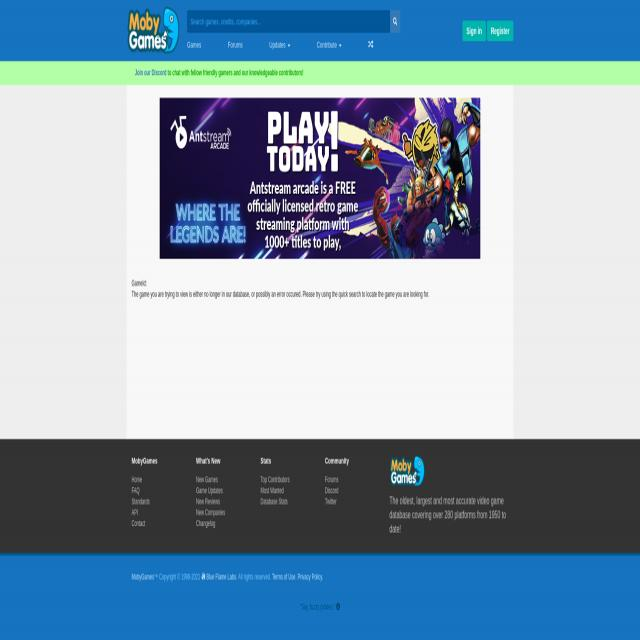button: (160, 98, 480, 260), (126, 6, 180, 55), (390, 456, 426, 488), (263, 35, 296, 57), (311, 36, 347, 56), (487, 20, 513, 41), (222, 35, 248, 55), (462, 20, 486, 41), (184, 36, 205, 54), (363, 36, 380, 56), (390, 10, 400, 33)
field: (187, 10, 390, 33)
